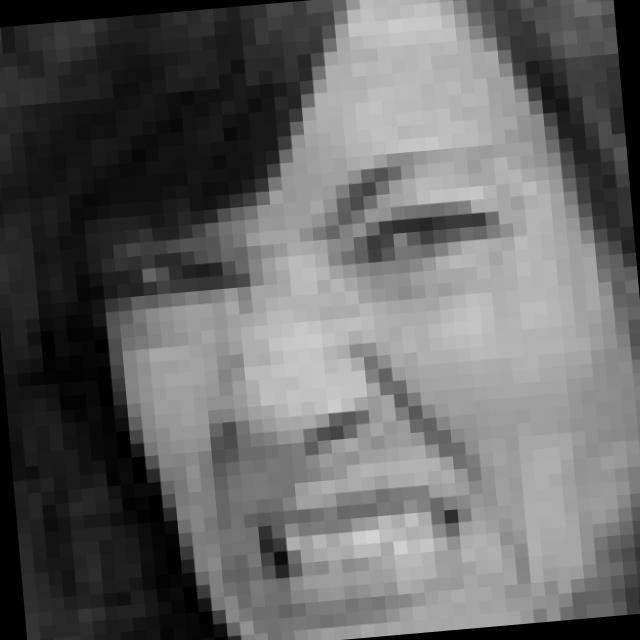disgust: (95, 138, 550, 633)
